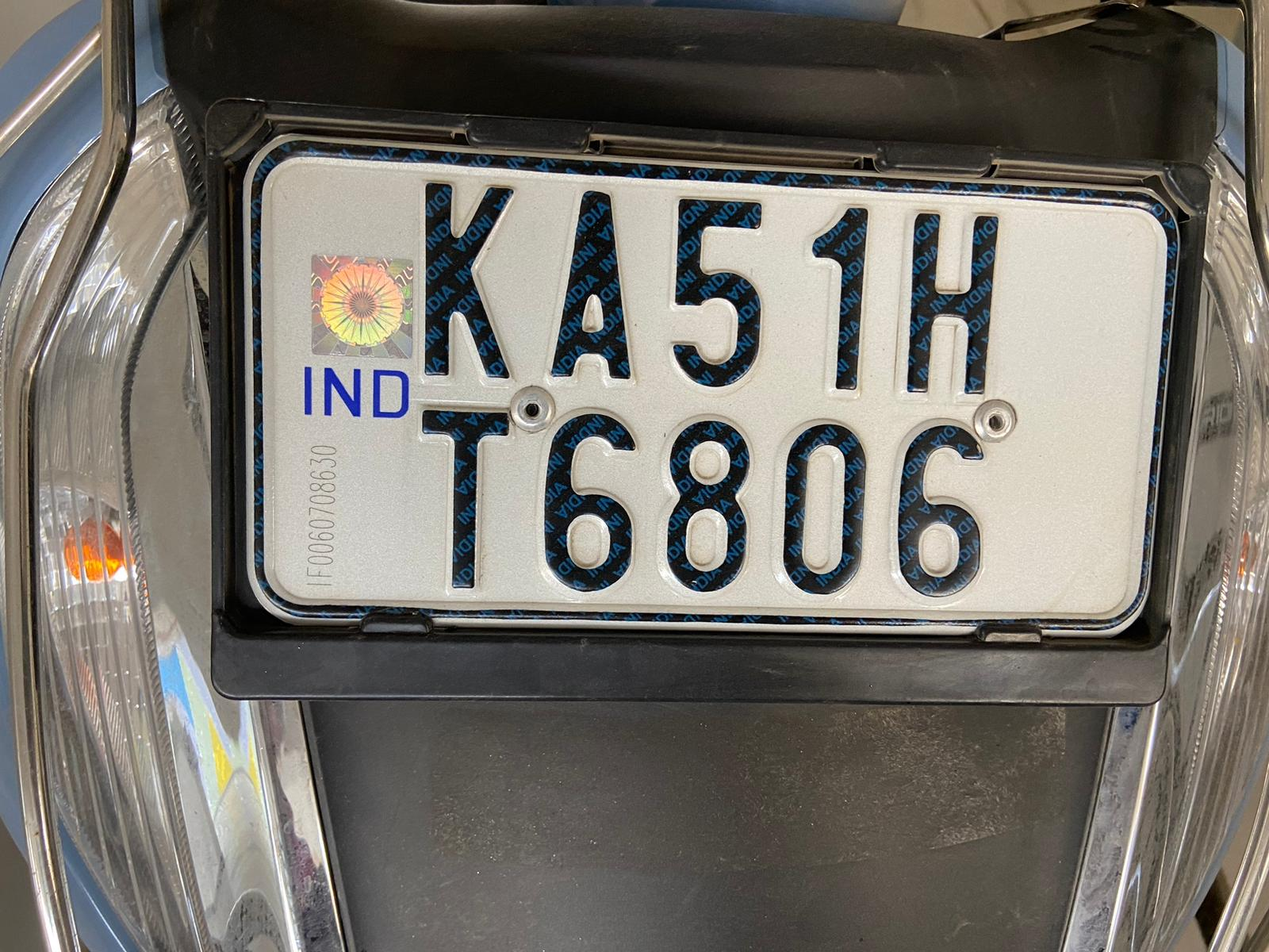0: (768, 409, 877, 600)
1: (796, 191, 881, 408)
2: (407, 141, 520, 392)
5: (663, 173, 777, 392)
6: (538, 395, 648, 595), (887, 409, 994, 600)
8: (653, 401, 756, 602)
A: (546, 179, 650, 394)
H: (901, 199, 999, 405)
T: (409, 397, 528, 608)
